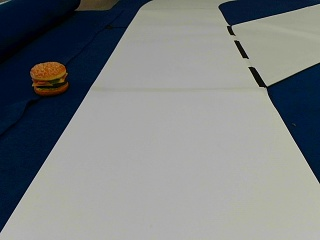burger: (30, 60, 69, 95)
